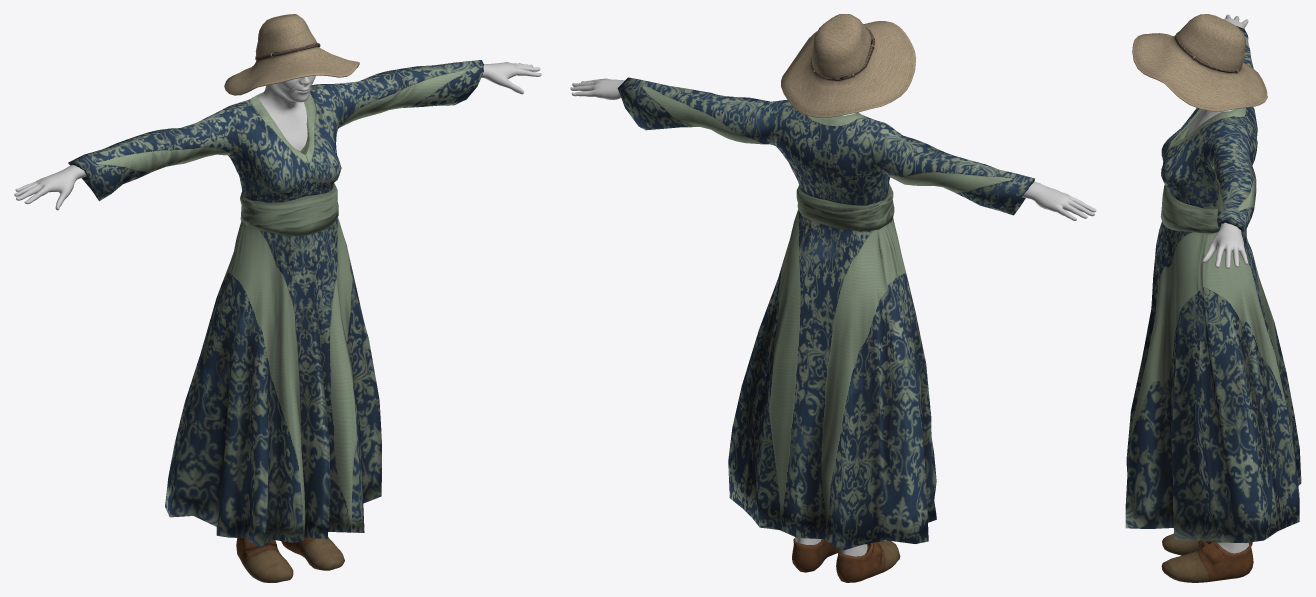
File: FemaleNpc2.obj
The picture shows the model from 3 angles, left to right: view 1: azimuth 30°, elevation 25°; view 2: azimuth 150°, elevation 25°; view 3: azimuth 270°, elevation 25°; orthographic projection.
Parts seen in each view (by area): view 1: Tops, Hats, Body, Shoes; view 2: Tops, Hats, Shoes, Body; view 3: Tops, Hats, Shoes, Body.
Part boxes in pixels (left/top/right/bottom): Tops: left=68, top=60, right=483, bottom=548; Hats: left=224, top=14, right=359, bottom=95; Body: left=14, top=62, right=541, bottom=210; Shoes: left=236, top=537, right=344, bottom=582; Tops: left=617, top=77, right=1034, bottom=550; Hats: left=781, top=14, right=915, bottom=117; Shoes: left=792, top=537, right=900, bottom=582; Body: left=570, top=78, right=1096, bottom=556; Tops: left=1125, top=26, right=1301, bottom=542; Hats: left=1132, top=14, right=1267, bottom=111; Shoes: left=1161, top=533, right=1253, bottom=582; Body: left=1184, top=14, right=1249, bottom=553.
Size of the model in its own units: 2.15 by 2.15 by 0.6269.
